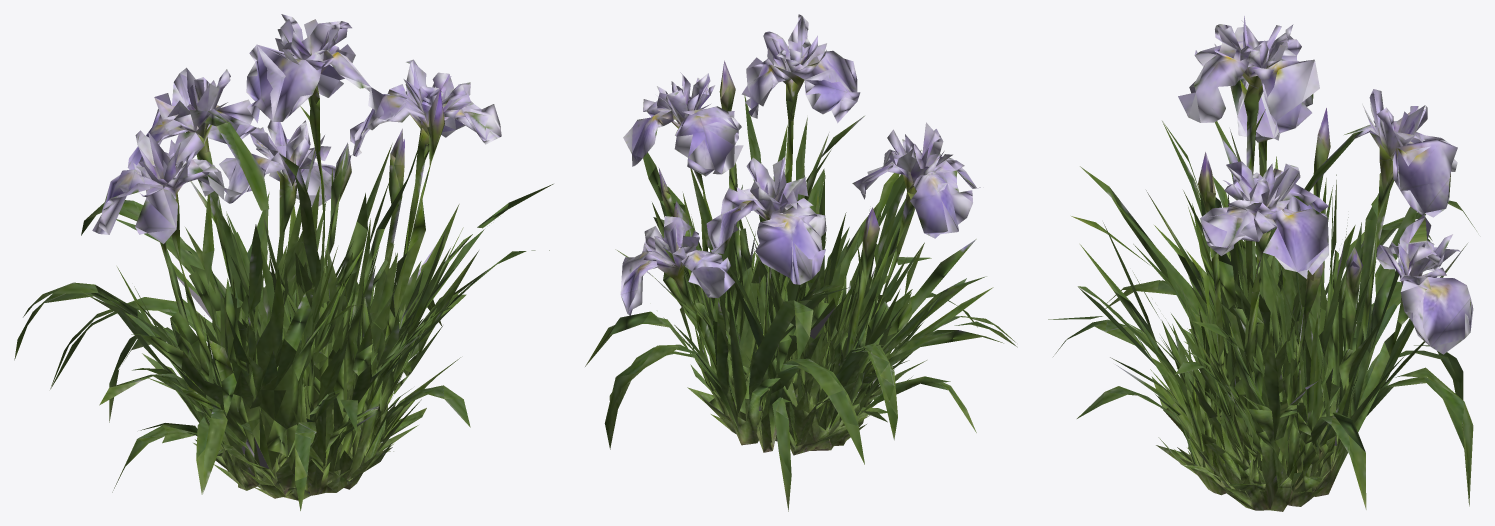
File: midori_2050_iris_clump.glb
The picture shows the model from 3 angles, left to right: view 1: azimuth 30°, elevation 25°; view 2: azimuth 150°, elevation 25°; view 3: azimuth 270°, elevation 25°; orthographic projection. The views are drawn at different scales.
Parts seen in each view (by area): view 1: Midori2050_IrisClump; view 2: Midori2050_IrisClump; view 3: Midori2050_IrisClump.
Part boxes in pixels (box(x1,y1,x2,y2)): Midori2050_IrisClump: box(14, 14, 553, 510); Midori2050_IrisClump: box(585, 14, 1017, 511); Midori2050_IrisClump: box(1048, 16, 1476, 511).
Bounding box in the file's own units: 0.65 × 0.65 × 0.55.
Materials: 1 (1 with a texture image).
